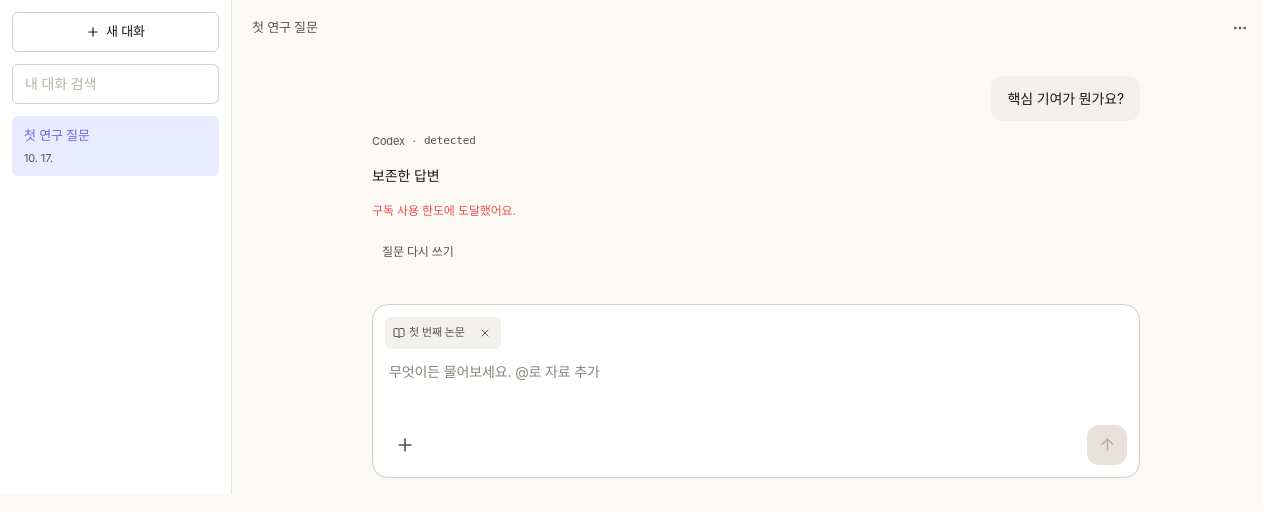
Test case: AI 연구 채팅 › 연결 없이 저장 이력을 읽고 새 대화를 시작하며 실패 원인을 답변 안에 보여 준다
Expected: the text "보존한 답변" is shown, [372, 166, 440, 184]
Expected: the text "구독 사용 한도에 도달했어요." is shown, [372, 202, 516, 218]
Click the button "새 대화" at [116, 32], box [12, 12, 219, 52]
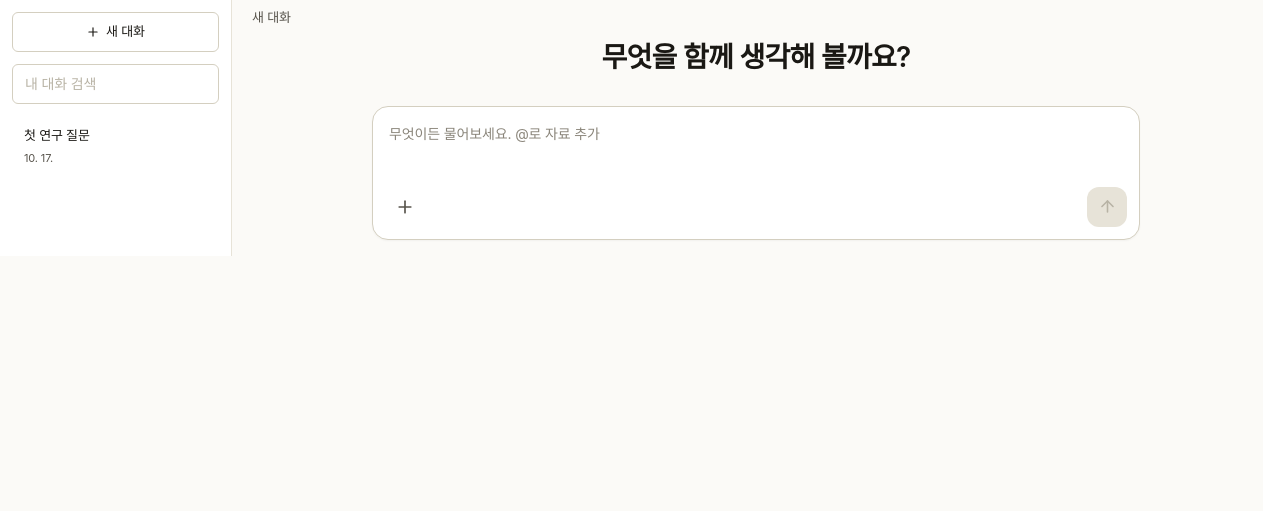
Now the text "보존한 답변" is gone
Now the heading "무엇을 함께 생각해 볼까요?" is shown, box [601, 40, 911, 74]
